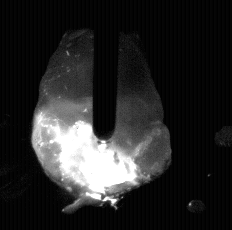arame: (94, 0, 118, 140)
poca: (31, 0, 171, 230)
